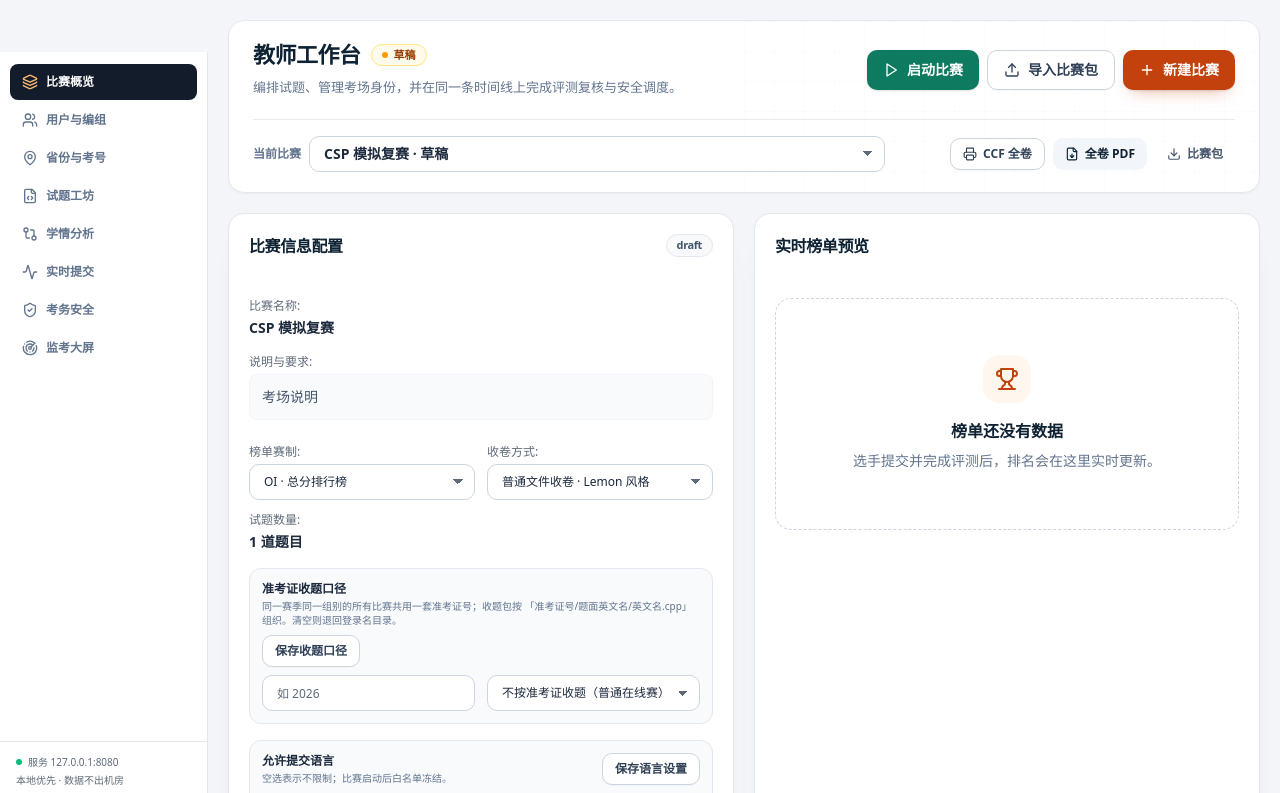
Test case: TeacherConsole test data workflow › syncs paired files into scored test cases
Click the tab "试题工坊" at x=104, y=196, box [10, 178, 197, 214]
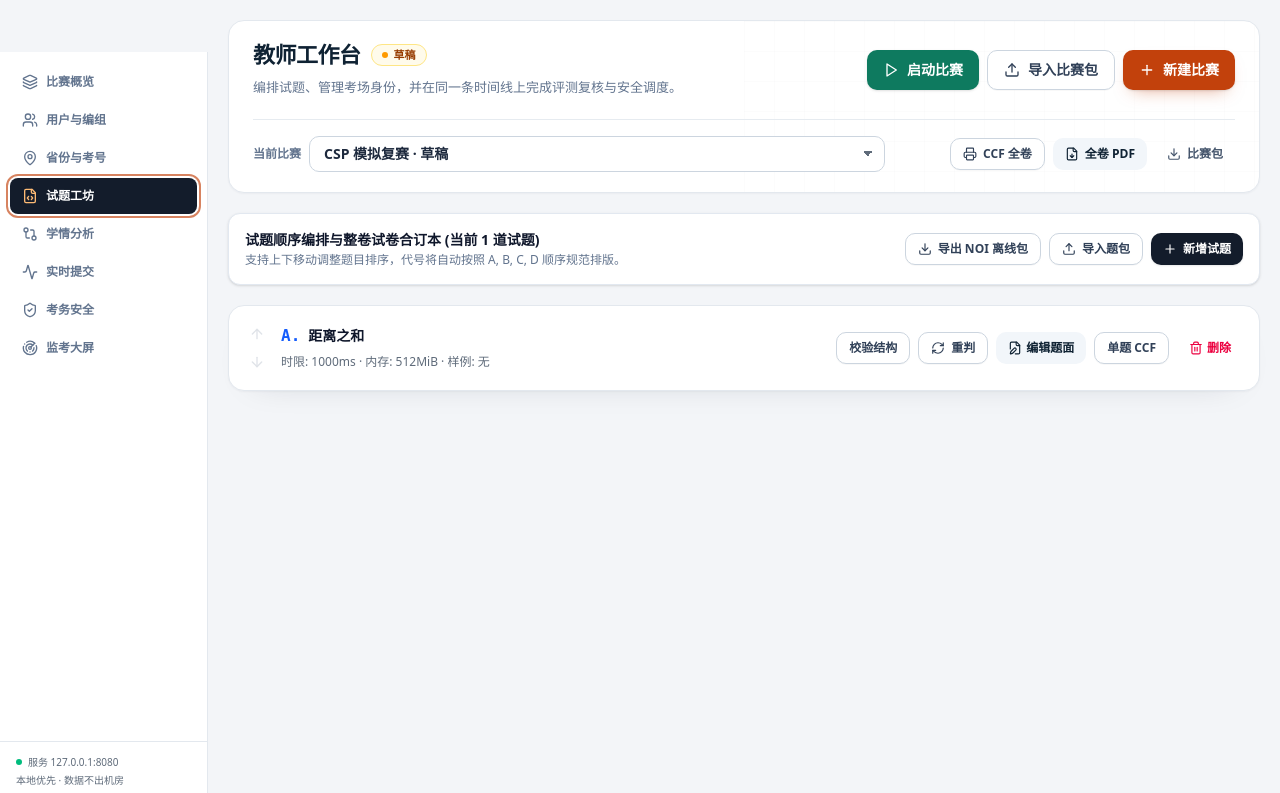
Click the button "编辑题面" at x=1041, y=348, box [996, 332, 1086, 364]
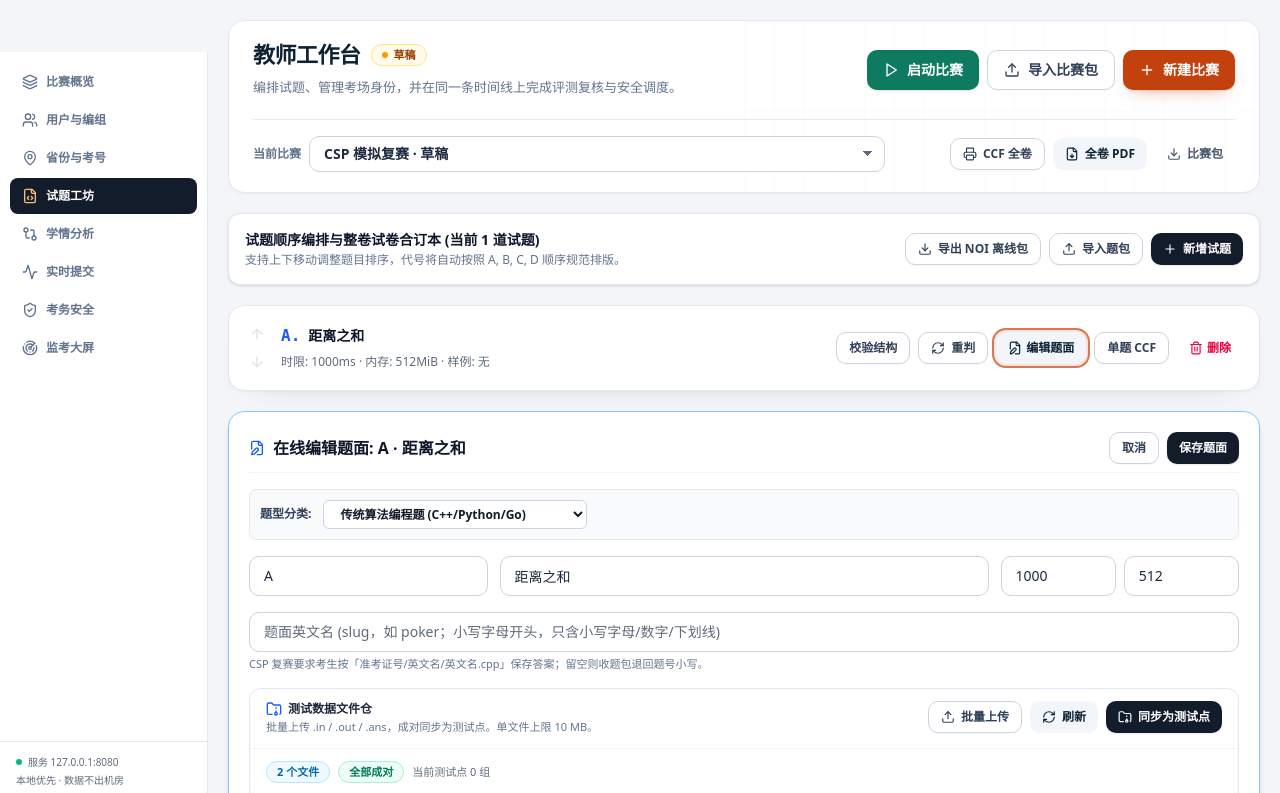
Expected: the text "测试数据文件仓" is shown, [266, 700, 372, 717]
Expected: the button "同步为测试点" is enabled
Click the button "同步为测试点" at x=1164, y=717, box [1106, 701, 1222, 733]
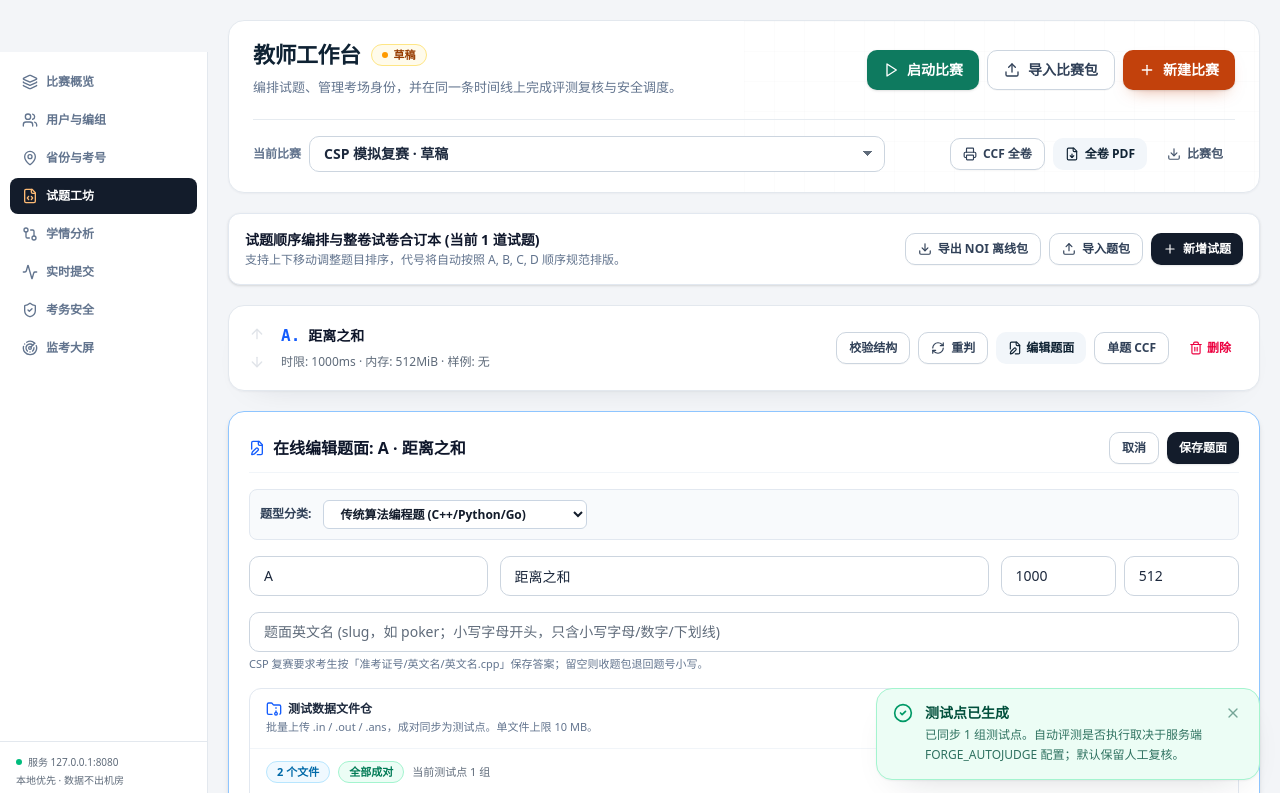
Expected: the text "已同步 1 组测试点。自动评测是否执行取决于服务端 FORGE_AUTOJUDGE 配置；默认保留人工复核。" is shown, [925, 725, 1211, 765]
Expected: the text "当前测试点 1 组" is shown, [412, 764, 490, 780]
